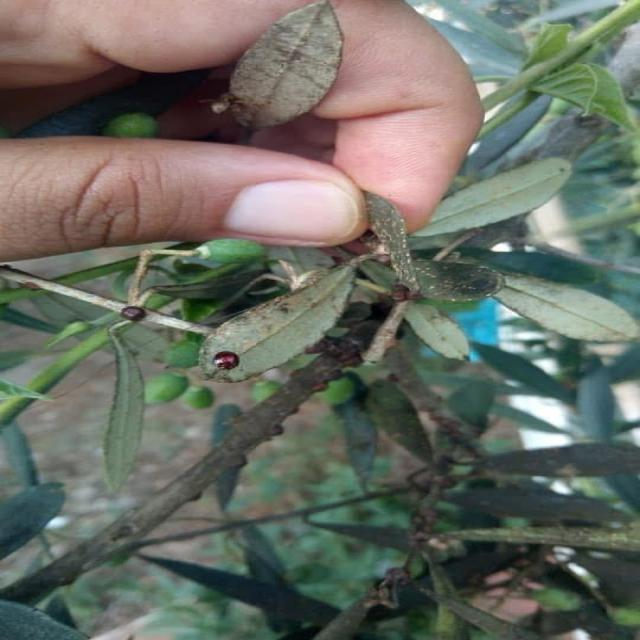BlackScale: (199, 260, 358, 383), (380, 282, 420, 305), (120, 306, 147, 322)
